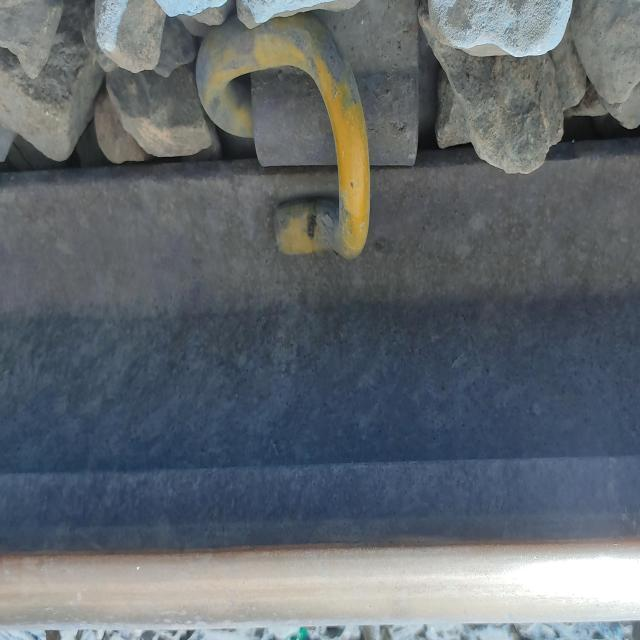Good Fasteners: (190, 8, 419, 269)
